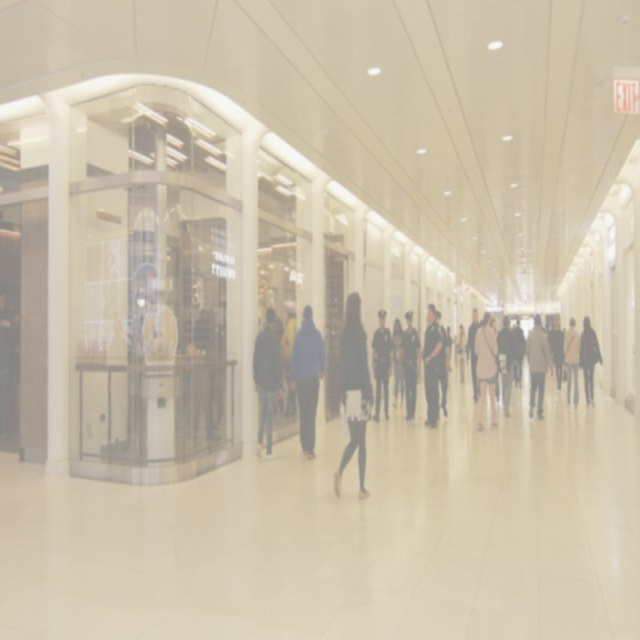pessoa: (332, 290, 374, 502), (183, 301, 228, 447), (288, 302, 326, 460), (252, 305, 284, 463), (270, 296, 298, 422), (416, 301, 442, 428), (524, 312, 554, 420), (474, 311, 500, 434), (371, 308, 394, 423), (578, 312, 604, 407), (401, 308, 422, 423), (496, 313, 518, 419), (5, 305, 22, 435), (433, 309, 450, 422), (562, 314, 580, 410), (466, 306, 482, 406), (391, 316, 406, 411), (509, 317, 527, 388), (110, 316, 136, 358), (552, 320, 566, 392), (455, 322, 468, 386), (446, 325, 455, 367), (442, 326, 448, 370), (539, 318, 553, 336), (490, 316, 498, 335), (546, 334, 552, 352), (508, 320, 516, 330), (526, 326, 535, 334), (477, 318, 485, 326), (562, 323, 568, 333)
